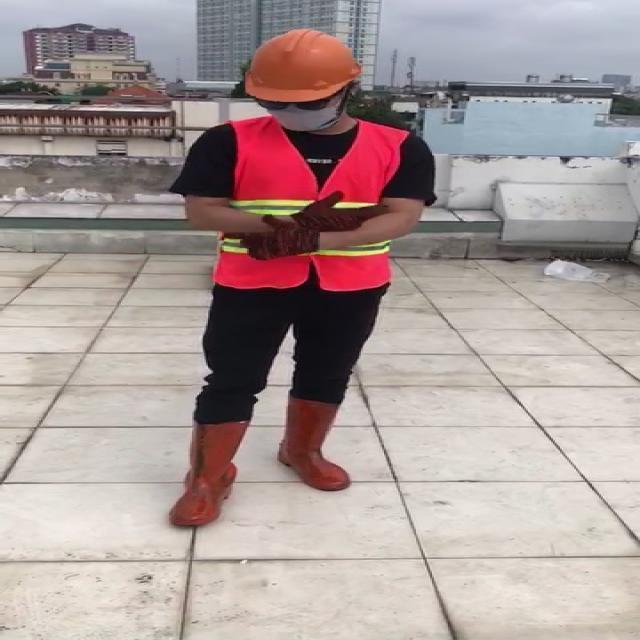gloves: (222, 214, 320, 262), (290, 190, 392, 232)
goggles: (253, 97, 332, 112)
helmet: (235, 29, 364, 104)
safety_vest: (215, 120, 414, 288)
